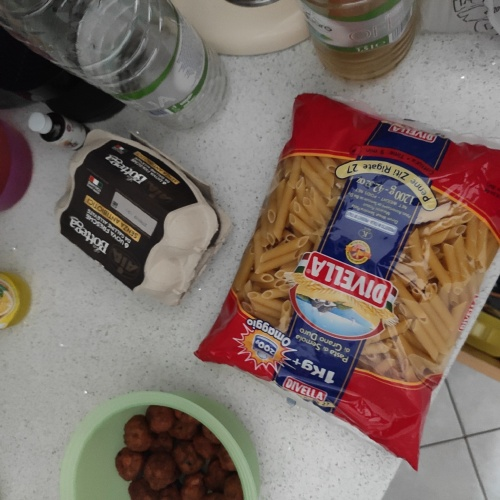pasta: (227, 130, 491, 399)
